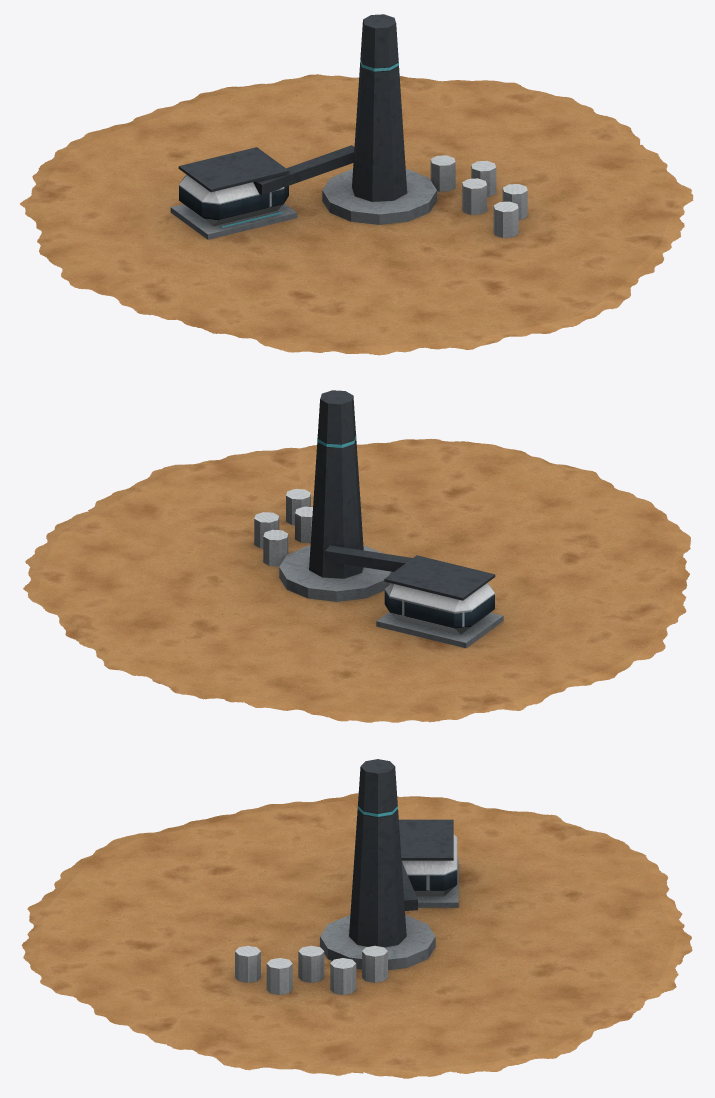
Rendered from mine-future.glb.
3 views of the same model, one above another, from view 1: azimuth 30°, elevation 25°; view 2: azimuth 150°, elevation 25°; view 3: azimuth 270°, elevation 25° (orthographic).
Parts seen in each view (by area): view 1: LOD0; view 2: LOD0; view 3: LOD0.
Part boxes in pixels (<box>): LOD0: <box>20,14,693,355</box>; LOD0: <box>23,390,690,722</box>; LOD0: <box>21,759,692,1078</box>.
Size of what is drawn, in the model's own units: 4.79 by 1.41 by 4.76.
Materials: 2 (2 with a texture image).
